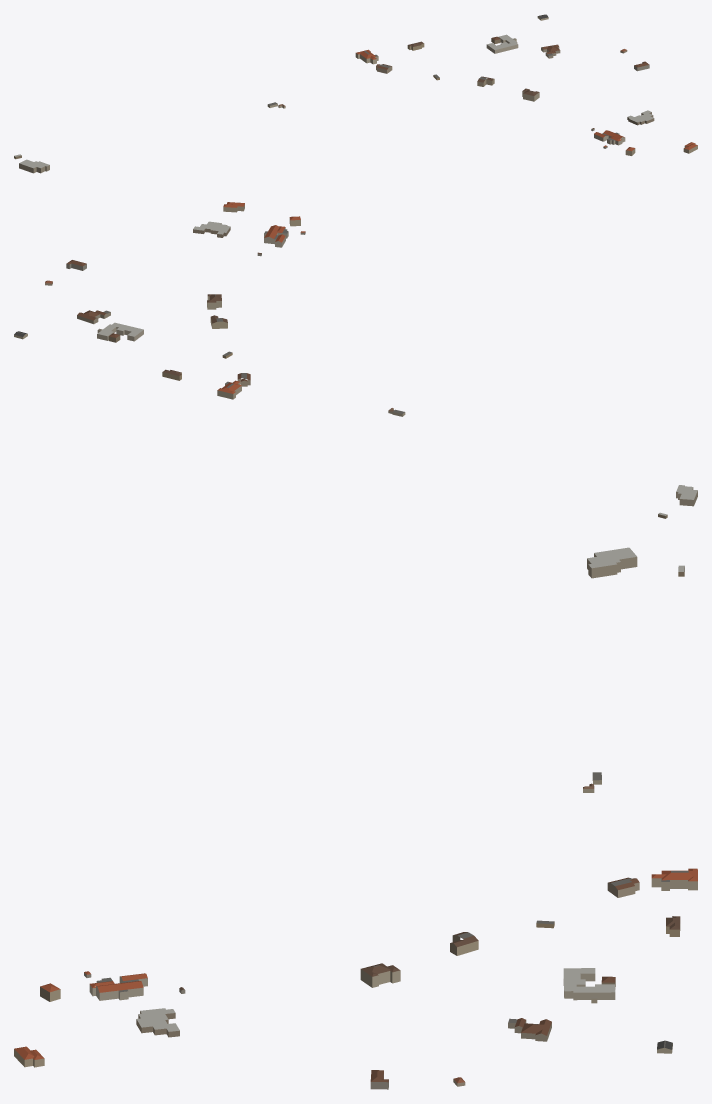
The picture shows the model from 3 angles, top to bottom: view 1: azimuth 30°, elevation 25°; view 2: azimuth 150°, elevation 25°; view 3: azimuth 270°, elevation 25°; orthographic projection. The views are drawn at different scales.
Parts seen in each view (by area): view 1: buildings_r4_c0_lod1; view 2: buildings_r4_c0_lod1; view 3: buildings_r4_c0_lod1.
Boxes of the visible parts, x1,y1,x2,y2 form: buildings_r4_c0_lod1: (14,14,697,173); buildings_r4_c0_lod1: (14,202,697,518); buildings_r4_c0_lod1: (14,547,697,1089).
Bounding box in the file's own units: 1025 × 38.04 × 538.
